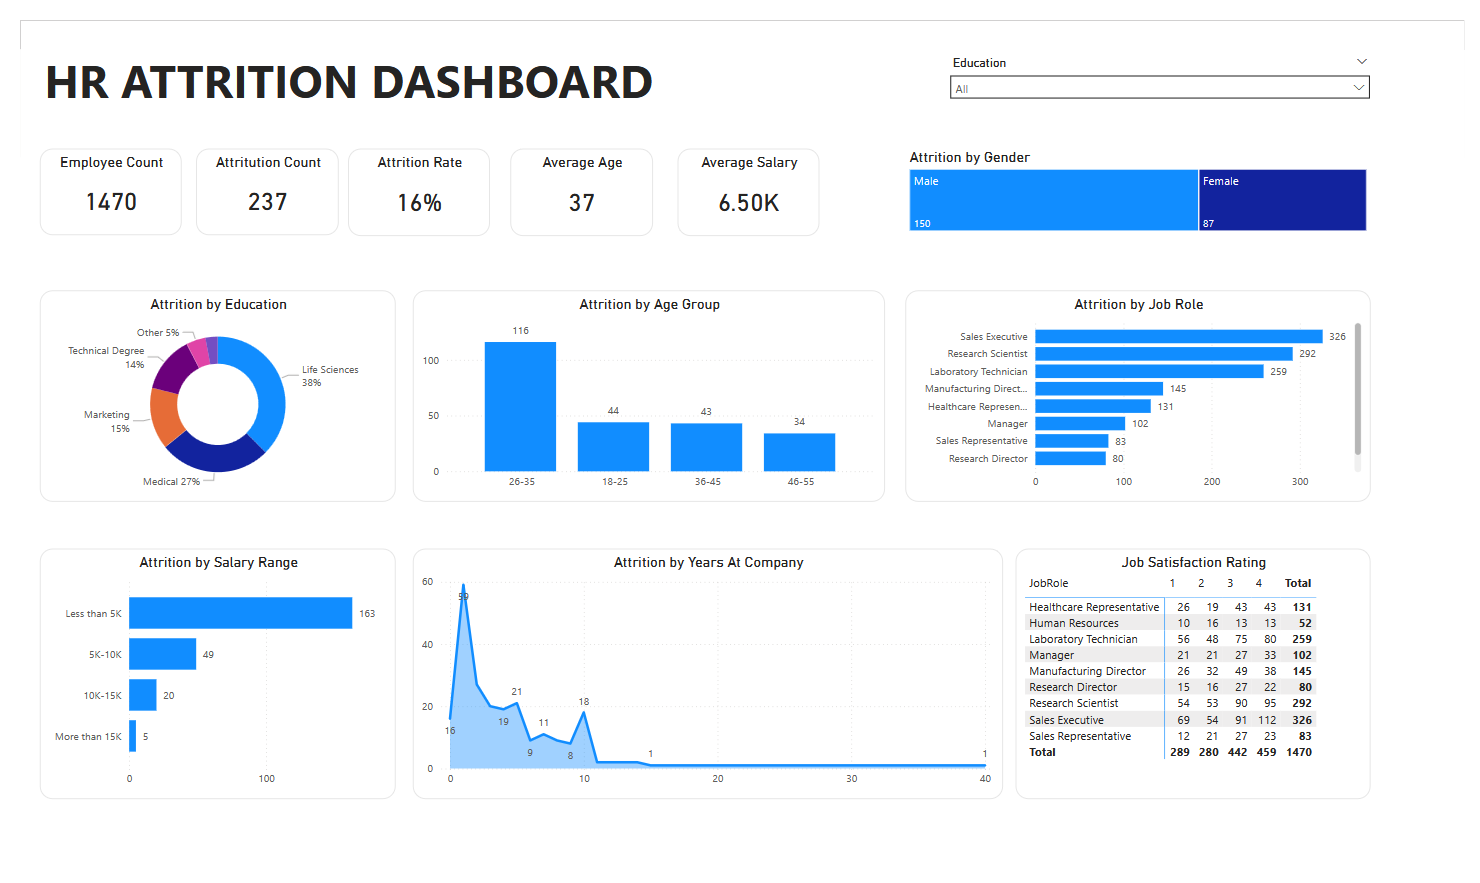

The dashboard page shown, as its layout file describes it:
{"tool":"powerbi","page":{"name":"HR ANALYTICS DAHSBOARD","canvas":[1700,1000],"ordinal":0},"visuals":[{"type":"card","title":"Employee Count","fields":{"Values":["Calculated_Measures.Employee_Count"]},"box":[23.3,151.1,166.6,102.1],"z":0},{"type":"card","title":"Attritution Count","fields":{"Values":["Calculated_Measures.Attrition_Count"]},"box":[206.7,151.1,167.9,102.1],"z":1000},{"type":"card","title":"Attrition Rate","fields":{"Values":["Calculated_Measures.Attrition_rate"]},"box":[385.7,151.4,167.3,102.1],"z":2000},{"type":"card","title":"Average Age","fields":{"Values":["Calculated_Measures.Average_Age"]},"box":[577.3,151.4,167.3,102.1],"z":3000},{"type":"card","title":"Average Salary","fields":{"Values":["Calculated_Measures.Average_Salary"]},"box":[773.8,151.4,167.3,102.1],"z":4000},{"type":"donutChart","title":"Attrition by Education","fields":{"Category":["Employee_Dim.EducationField"],"Y":["Calculated_Measures.Attrition_Count"]},"box":[23.3,317.8,418.5,249.3],"z":5000},{"type":"clusteredColumnChart","title":"Attrition by Age Group","fields":{"Y":["Calculated_Measures.Attrition_Count"],"Category":["Employee_Dim.Age_Grp"]},"box":[462.5,317.8,555.5,249.3],"z":6000},{"type":"clusteredBarChart","title":"Attrition by Salary Range","fields":{"Y":["Calculated_Measures.Attrition_Count"],"Category":["Employee_Fact.SalaryRange"]},"box":[23.3,622.4,418.5,294.5],"z":7000},{"type":"areaChart","title":"Attrition by Years At Company","fields":{"Y":["Calculated_Measures.Attrition_Count"],"Category":["Employee_Fact.YearsAtCompany"]},"box":[462.5,622.4,695,294.5],"z":8000},{"type":"treemap","title":"Attrition by Gender","fields":{"Group":["Employee_Dim.Gender"],"Values":["Calculated_Measures.Attrition_Count"]},"box":[1042.5,151.1,547.7,102.1],"z":9000},{"type":"pivotTable","title":"Job Satisfaction Rating","fields":{"Rows":["Job_Satisfaction_Dim.JobRole"],"Values":["CountNonNull(Job_Satisfaction_Dim.JobSatisfaction)"],"Columns":["Job_Satisfaction_Dim.JobSatisfaction"]},"box":[1171.7,622.4,418.5,294.5],"z":10000},{"type":"clusteredBarChart","title":"Attrition by Job Role","fields":{"Y":["CountNonNull(Employee_Fact.Attrition)"],"Category":["Job_Satisfaction_Dim.JobRole"]},"box":[1042.5,317.8,547.7,249.3],"z":11000},{"type":"textbox","box":[23.3,28.4,786.7,87.8],"z":12000},{"type":"slicer","fields":{"Values":["Employee_Dim.EducationField"]},"box":[1085.1,37.5,514.1,78.8],"z":13000}]}

Visuals, with their boxes in screenshot pixels (x1, y1, x2, y2), scaled from the page's 1700x1000 canvas onto the 1480x883 screenshot:
"Employee Count" card: 20/133/165/224
"Attritution Count" card: 180/133/326/224
"Attrition Rate" card: 336/134/481/224
"Average Age" card: 503/134/648/224
"Average Salary" card: 674/134/819/224
"Attrition by Education" donutChart: 20/281/385/501
"Attrition by Age Group" clusteredColumnChart: 403/281/886/501
"Attrition by Salary Range" clusteredBarChart: 20/550/385/810
"Attrition by Years At Company" areaChart: 403/550/1008/810
"Attrition by Gender" treemap: 908/133/1384/224
"Job Satisfaction Rating" pivotTable: 1020/550/1384/810
"Attrition by Job Role" clusteredBarChart: 908/281/1384/501
textbox: 20/25/705/103
slicer - Employee_Dim.EducationField: 945/33/1392/103
